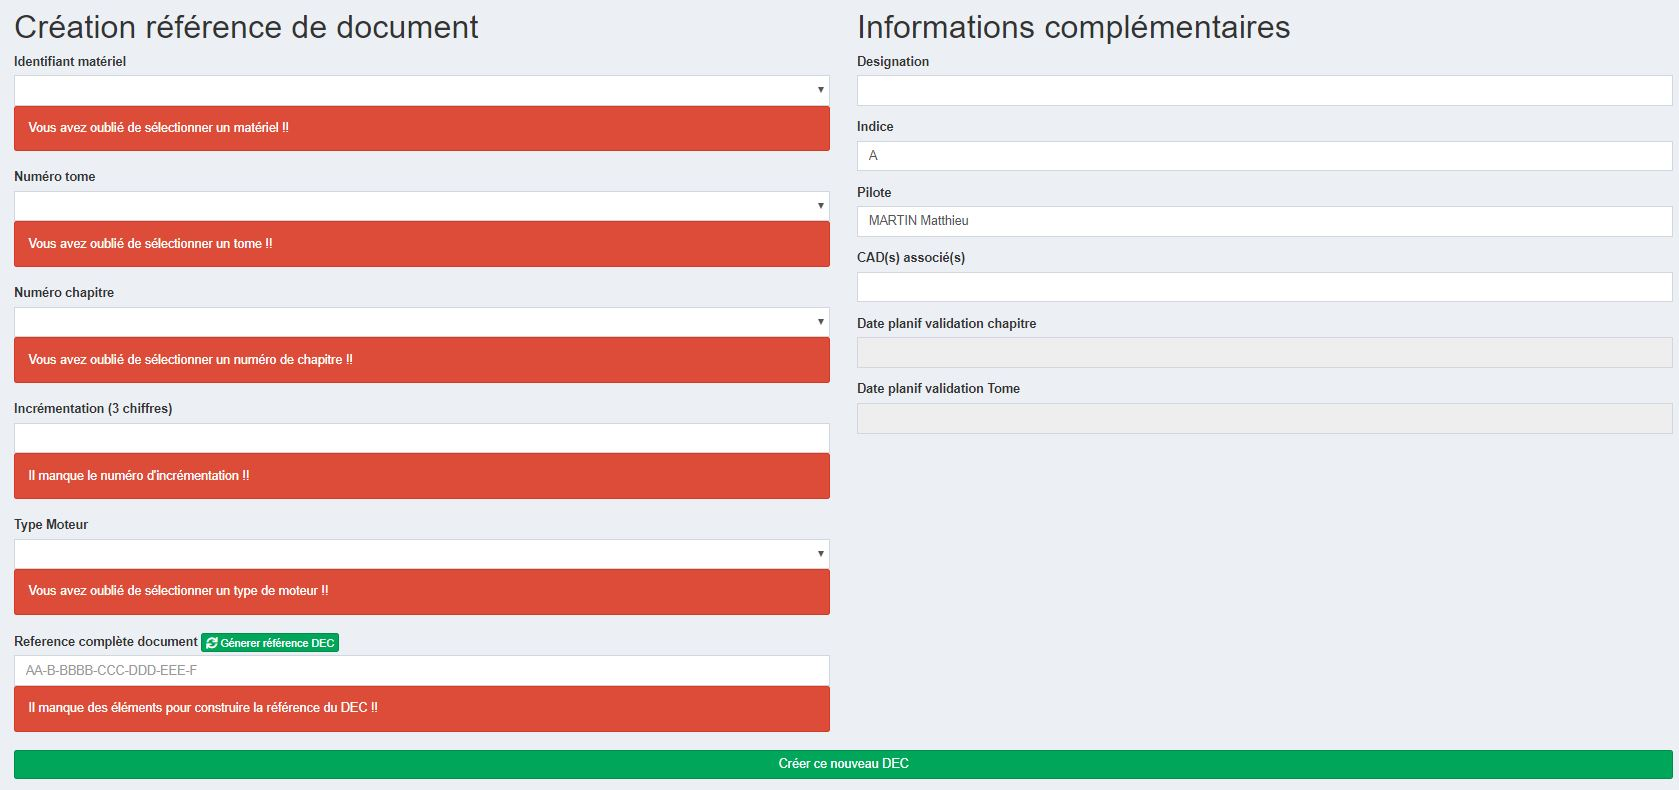error_message: (27, 349, 356, 368), (28, 117, 298, 138), (24, 699, 381, 715), (28, 580, 331, 597), (26, 232, 279, 253), (26, 466, 255, 486)
